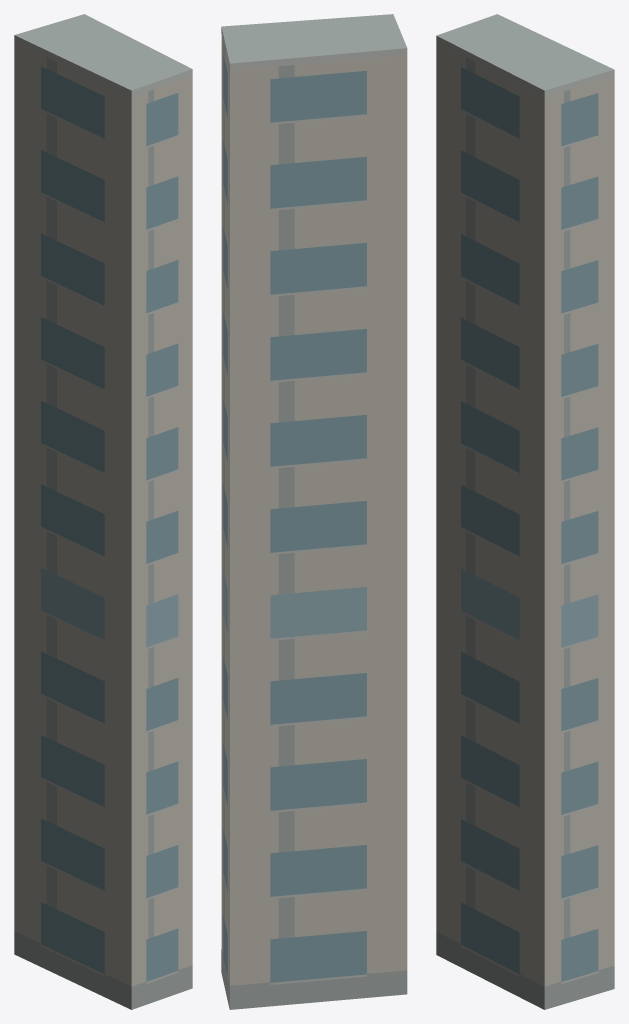
Rendered from survey-upis-32646718.glb.
3 renders of one model, left to right at view 1: azimuth 90°, elevation 25°; view 2: azimuth 150°, elevation 25°; view 3: azimuth 270°, elevation 25°, orthographic. The views are drawn at different scales.
Visible parts, largest first — view 1: survey-upis-32646718.tmp; view 2: survey-upis-32646718.tmp; view 3: survey-upis-32646718.tmp.
Part boxes in pixels (x1,y1,x2,y2): survey-upis-32646718.tmp: (14, 14, 192, 1009); survey-upis-32646718.tmp: (221, 14, 407, 1009); survey-upis-32646718.tmp: (436, 14, 614, 1009).
Bounding box in the file's own units: 6 × 33.55 × 5.9.
